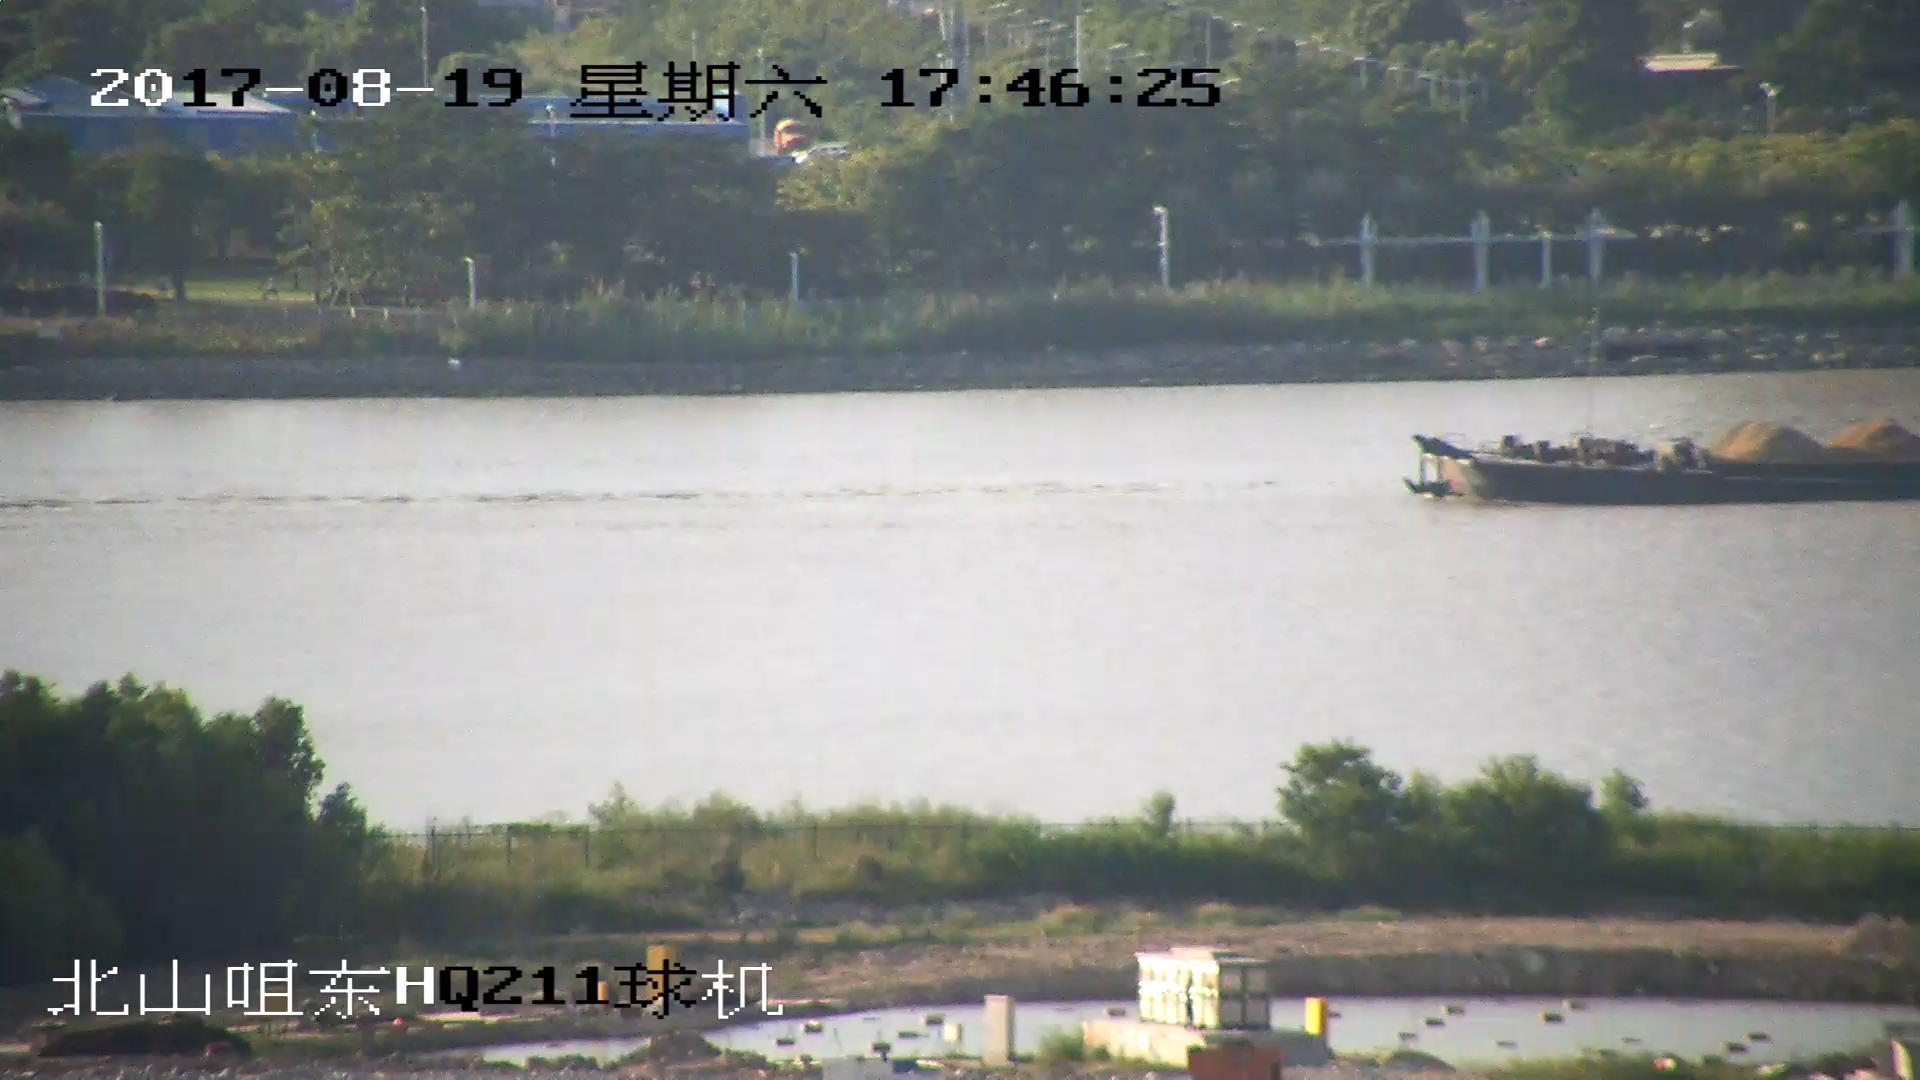Ship: (1403, 409, 1920, 512)
